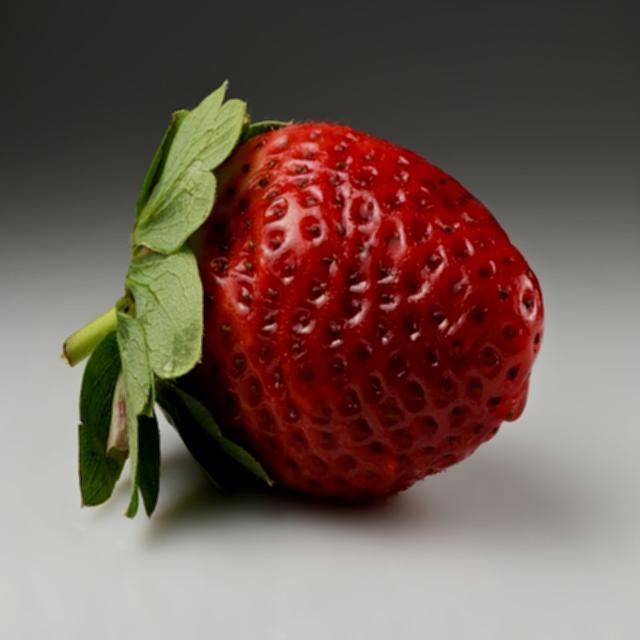strawberry: (64, 84, 542, 516)
